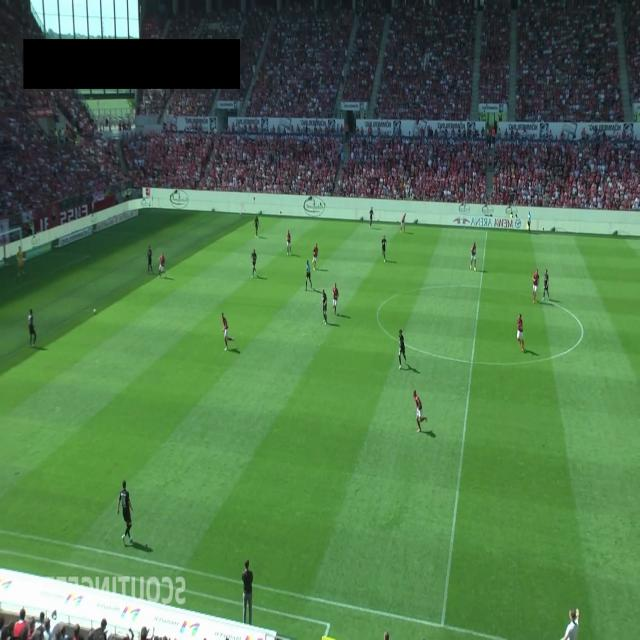ball: (92, 307, 96, 316)
goalkeeper: (16, 246, 26, 278)
player: (117, 479, 134, 546), (413, 389, 427, 432), (221, 312, 235, 351), (398, 329, 408, 370), (516, 313, 525, 352), (28, 308, 37, 346), (321, 288, 328, 324), (532, 268, 539, 304), (332, 283, 339, 316), (543, 268, 550, 301), (251, 248, 258, 278), (158, 252, 166, 278), (470, 242, 477, 271), (381, 234, 387, 263), (147, 246, 153, 274), (286, 229, 292, 256), (312, 243, 318, 270), (253, 216, 260, 236), (400, 212, 406, 232), (369, 206, 374, 228)
referee: (305, 260, 313, 290), (527, 210, 531, 232)
